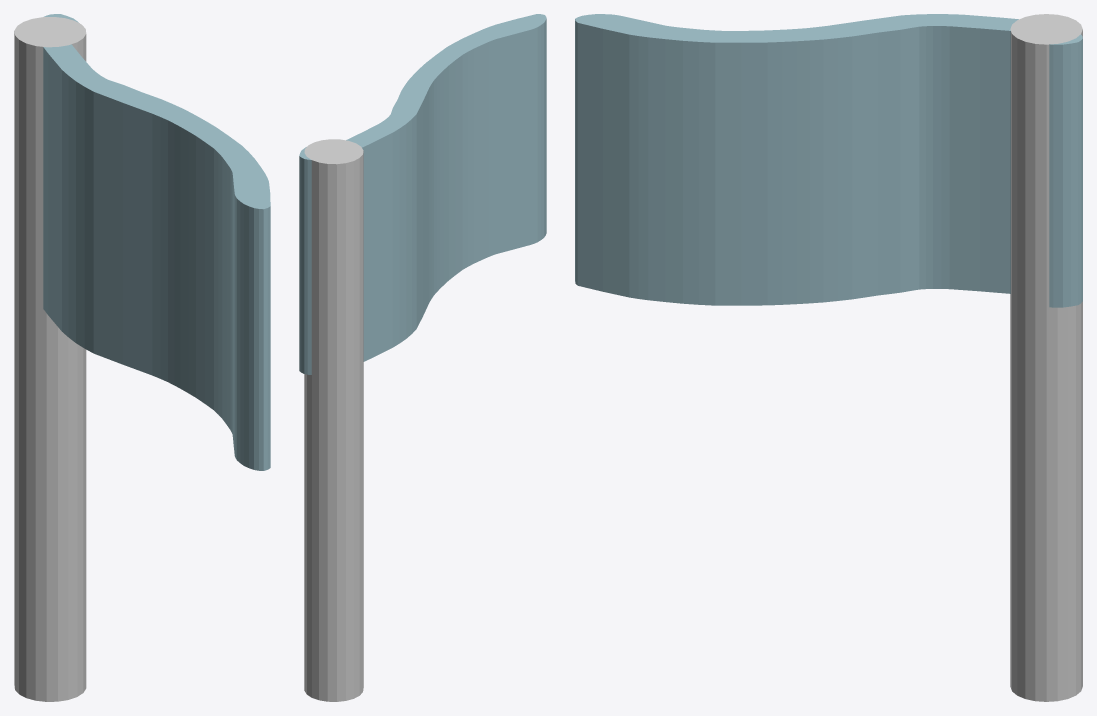
File: flag (1).glb
3 views of the same model, side by side, from view 1: azimuth 30°, elevation 25°; view 2: azimuth 150°, elevation 25°; view 3: azimuth 270°, elevation 25° (orthographic). The views are drawn at different scales.
Parts seen in each view (by area): view 1: Mesh_Mesh_head_geo.001_lambert2SG.001; view 2: Mesh_Mesh_head_geo.001_lambert2SG.001; view 3: Mesh_Mesh_head_geo.001_lambert2SG.001.
Part boxes in pixels (box(x1,y1,x2,y2)): Mesh_Mesh_head_geo.001_lambert2SG.001: box(14, 14, 270, 701); Mesh_Mesh_head_geo.001_lambert2SG.001: box(299, 14, 546, 701); Mesh_Mesh_head_geo.001_lambert2SG.001: box(575, 14, 1082, 701).
Bounding box in the file's own units: 1 × 10 × 7.
